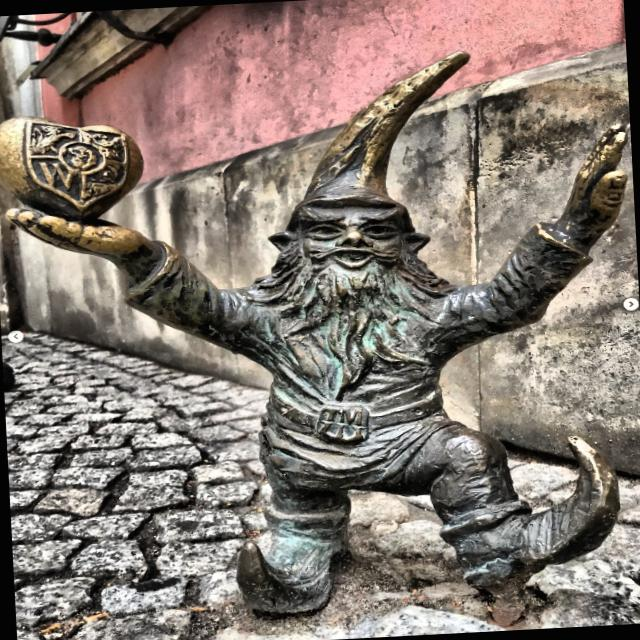WrocLovek: (0, 54, 629, 629)
